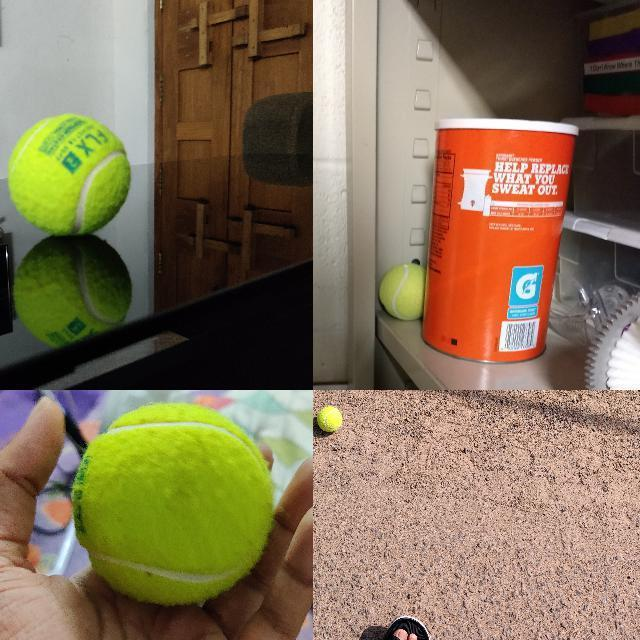tennis-ball: (70, 402, 274, 606), (7, 113, 132, 235), (378, 262, 423, 320), (317, 407, 342, 432)
